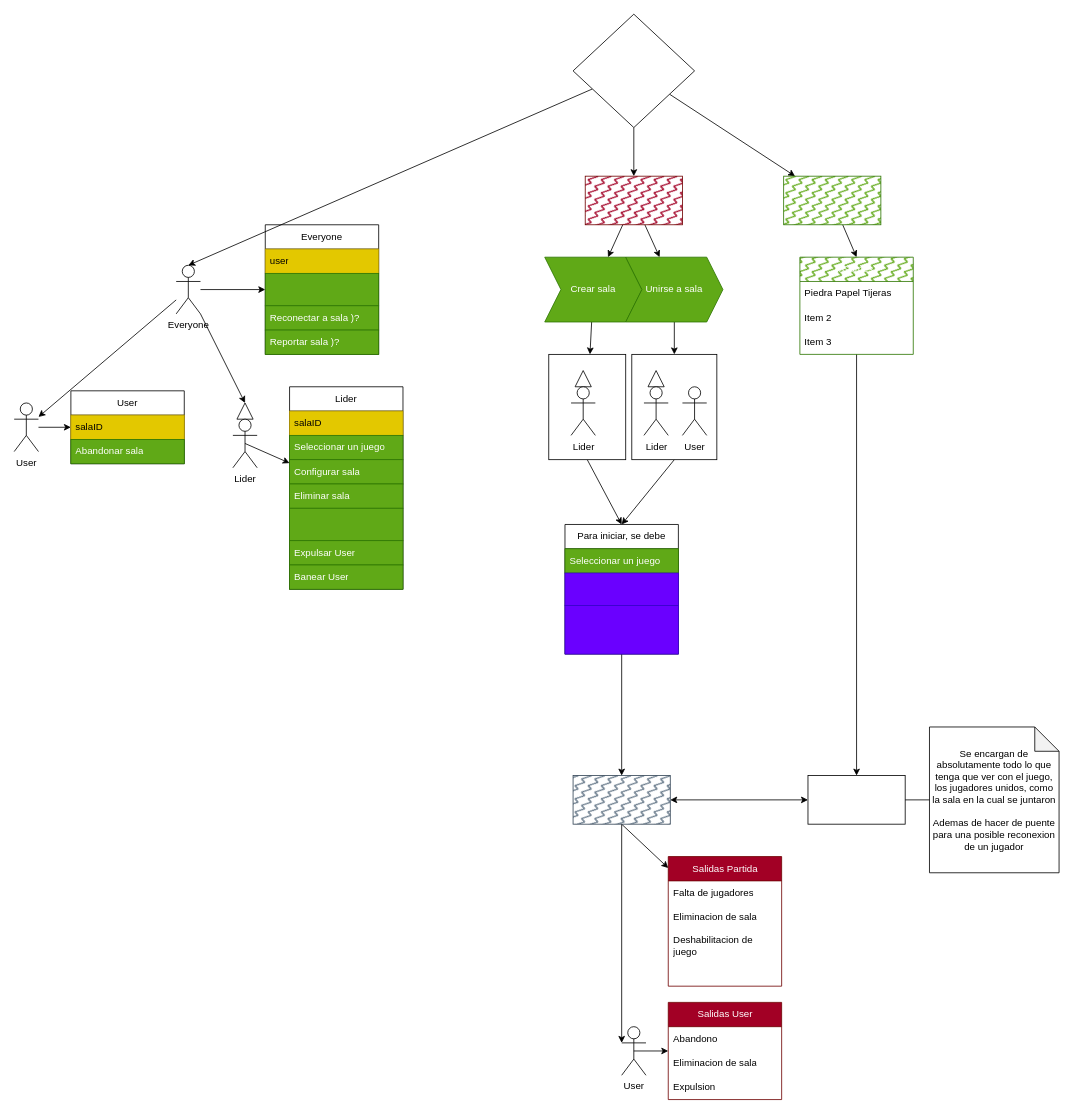
Image size: 1073x1114. Some labels were removed from this diagram. The centre of each missing label's shape, as x and y in pixels:
"Estar todos los jugadores listos (En caso de requerirlo el juego)" belongs at pixel 621 629.
"Game Handler" belongs at pixel 856 799.
"Gaming" belongs at pixel 633 70.
"Invitar a Users del mismo guild" belongs at pixel 346 524.
"Juegos" belongs at pixel 832 200.
"Partida" belongs at pixel 621 799.
"Salas" belongs at pixel 633 200.
"Ser minimo 2 jugadores en sala" belongs at pixel 621 588.
"Unirse a sala a traves del guild" belongs at pixel 321 289.
